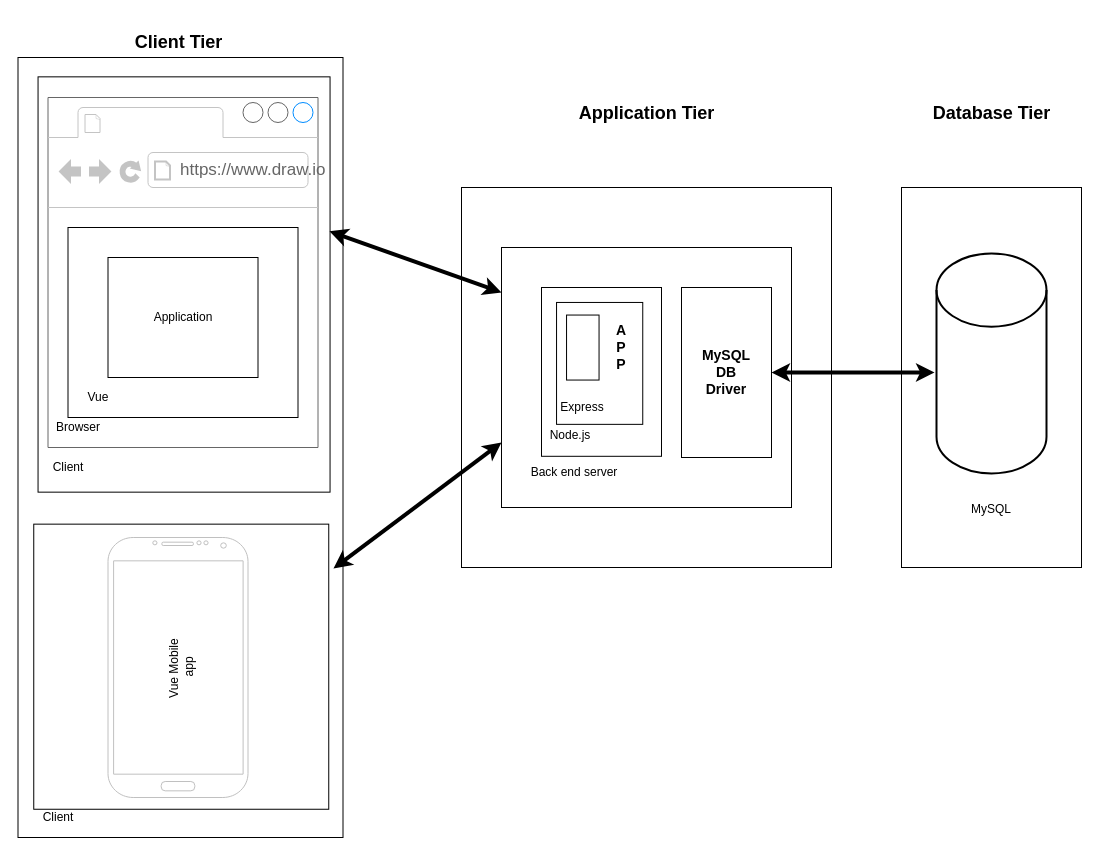
Image size: 1099x855. Some labels were removed from this diagram. The shapes that lost their labels are listed below. From the top down, each one's centre as x and y in pixels, then its label:
At pixel 162 122: "Page 1".
At pixel 582 347: "A P I".
